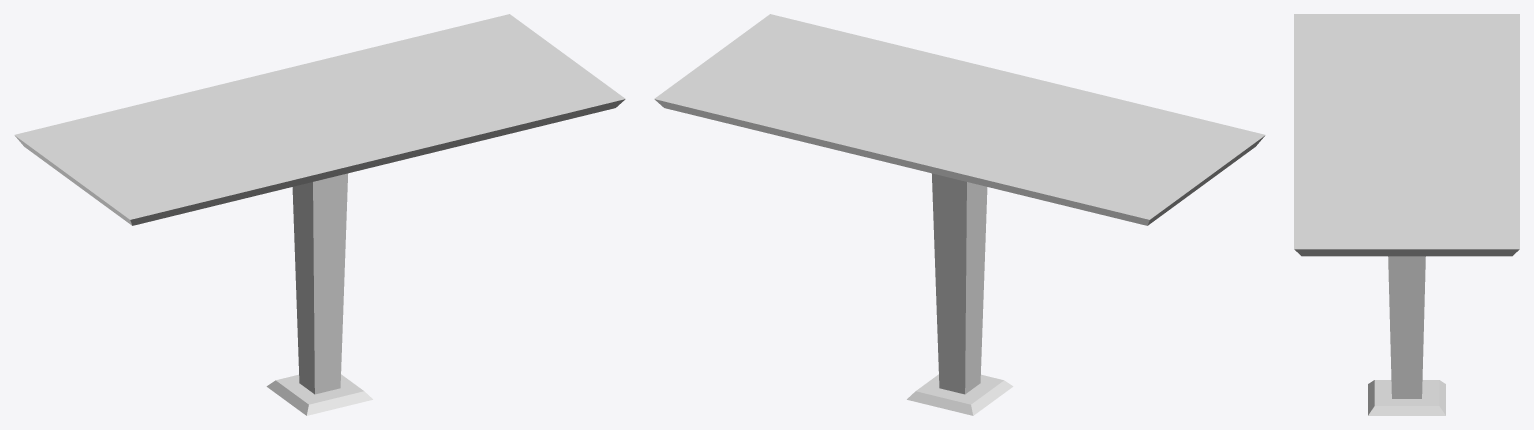
File: Table.fbx
The picture shows the model from 3 angles, left to right: view 1: azimuth 30°, elevation 25°; view 2: azimuth 150°, elevation 25°; view 3: azimuth 270°, elevation 25°; orthographic projection. The views are drawn at different scales.
Parts seen in each view (by area): view 1: Table.002; view 2: Table.002; view 3: Table.002.
Part boxes in pixels (x1,y1,x2,y2): Table.002: (14, 14, 625, 415); Table.002: (654, 14, 1265, 415); Table.002: (1294, 14, 1519, 415).
Bounding box in the file's own units: 1.85 × 0.75 × 0.9837.
